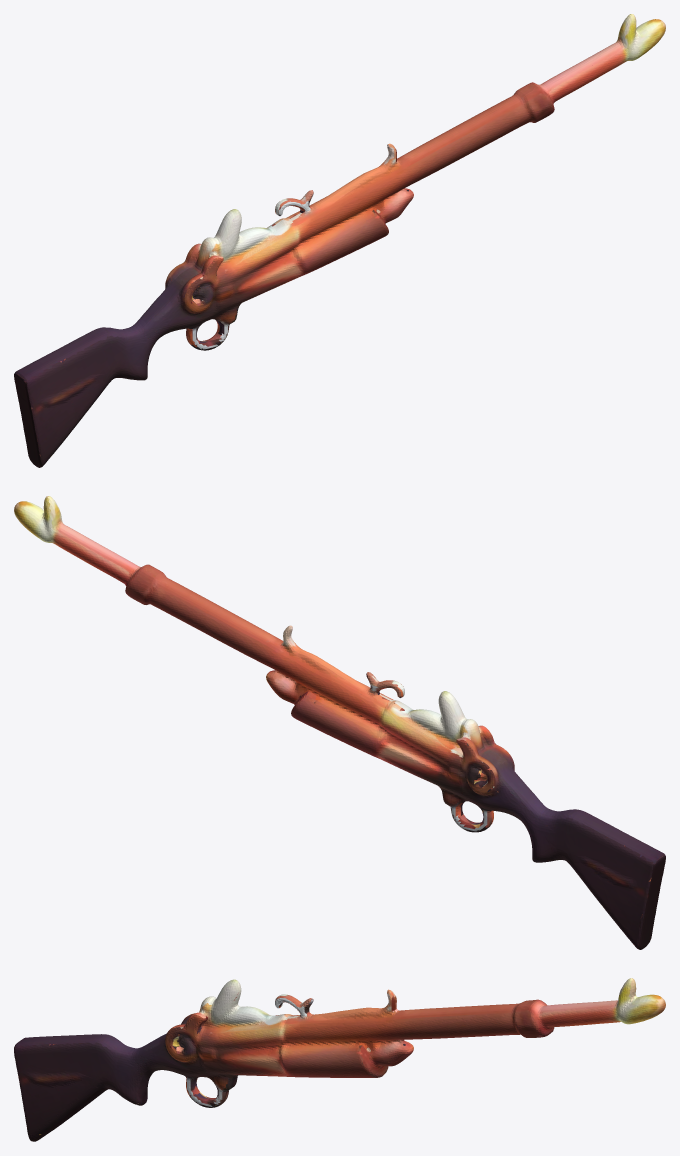
Rendered from kathrina_weapon.glb.
The picture shows the model from 3 angles, top to bottom: view 1: azimuth 30°, elevation 25°; view 2: azimuth 150°, elevation 25°; view 3: azimuth 330°, elevation 25°; orthographic projection.
Visible parts, largest first — view 1: tmpbebf0blz.ply; view 2: tmpbebf0blz.ply; view 3: tmpbebf0blz.ply.
Part boxes in pixels (x1=…): tmpbebf0blz.ply: x1=14, y1=14, x2=665, y2=467; tmpbebf0blz.ply: x1=14, y1=496, x2=665, y2=949; tmpbebf0blz.ply: x1=14, y1=978, x2=665, y2=1141.
Size of the model in its own units: 1.99 by 0.9053 by 0.1188.
Materials: 1 (1 with a texture image).
